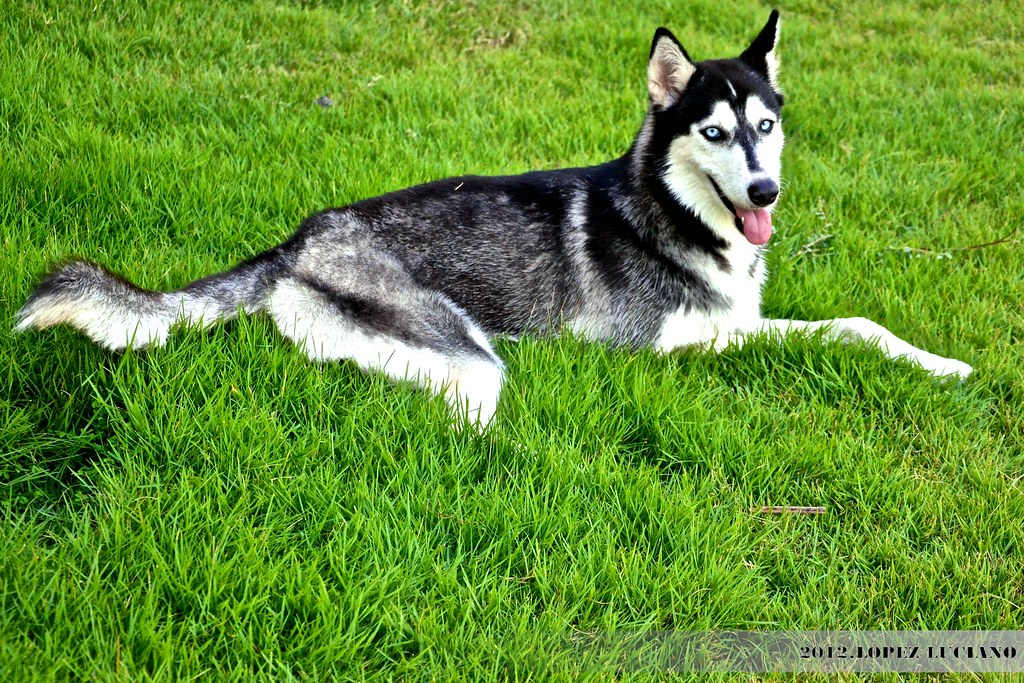husky: (267, 9, 848, 398)
